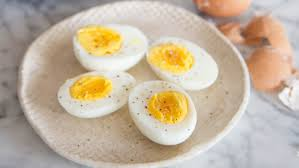egg: (120, 77, 206, 151), (70, 17, 151, 71), (142, 35, 223, 89), (57, 67, 138, 121)
